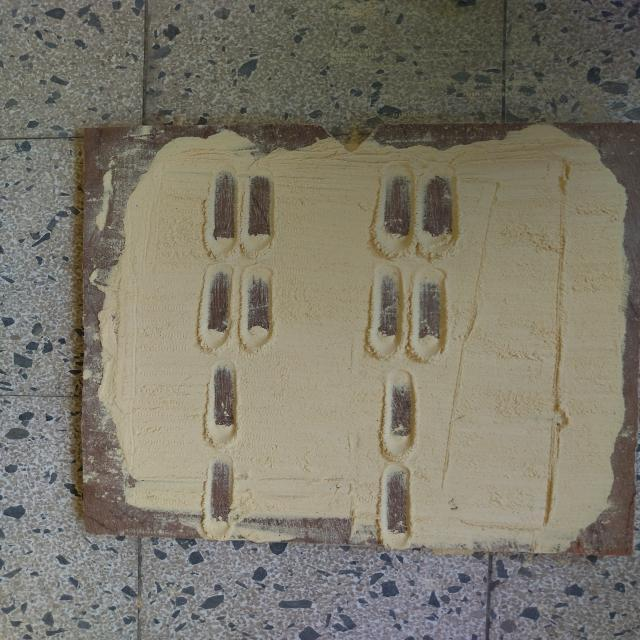double: (366, 157, 464, 262), (362, 264, 456, 366), (195, 261, 278, 356), (200, 166, 280, 260)
single: (374, 364, 424, 464), (197, 451, 241, 544), (376, 458, 420, 551), (202, 354, 244, 449)
